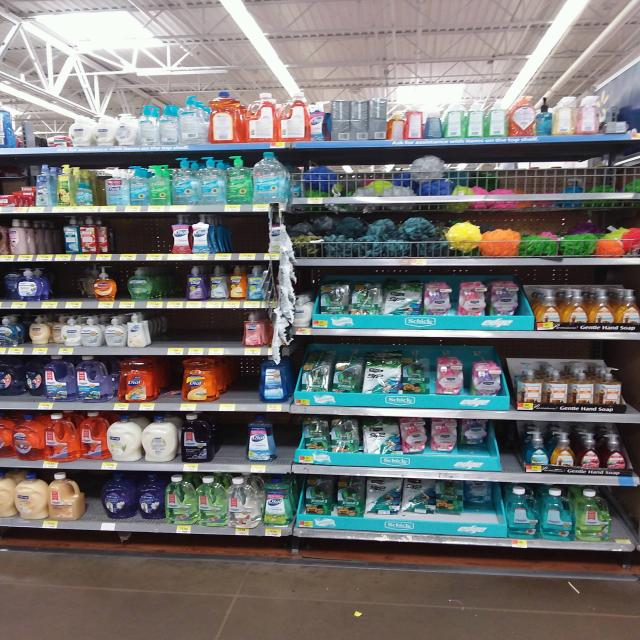void: (160, 312, 239, 347), (110, 215, 166, 252), (224, 214, 264, 252), (50, 265, 90, 300), (607, 92, 640, 132), (228, 358, 256, 405), (219, 412, 241, 462), (617, 488, 637, 543), (20, 100, 42, 146), (502, 426, 521, 468)
